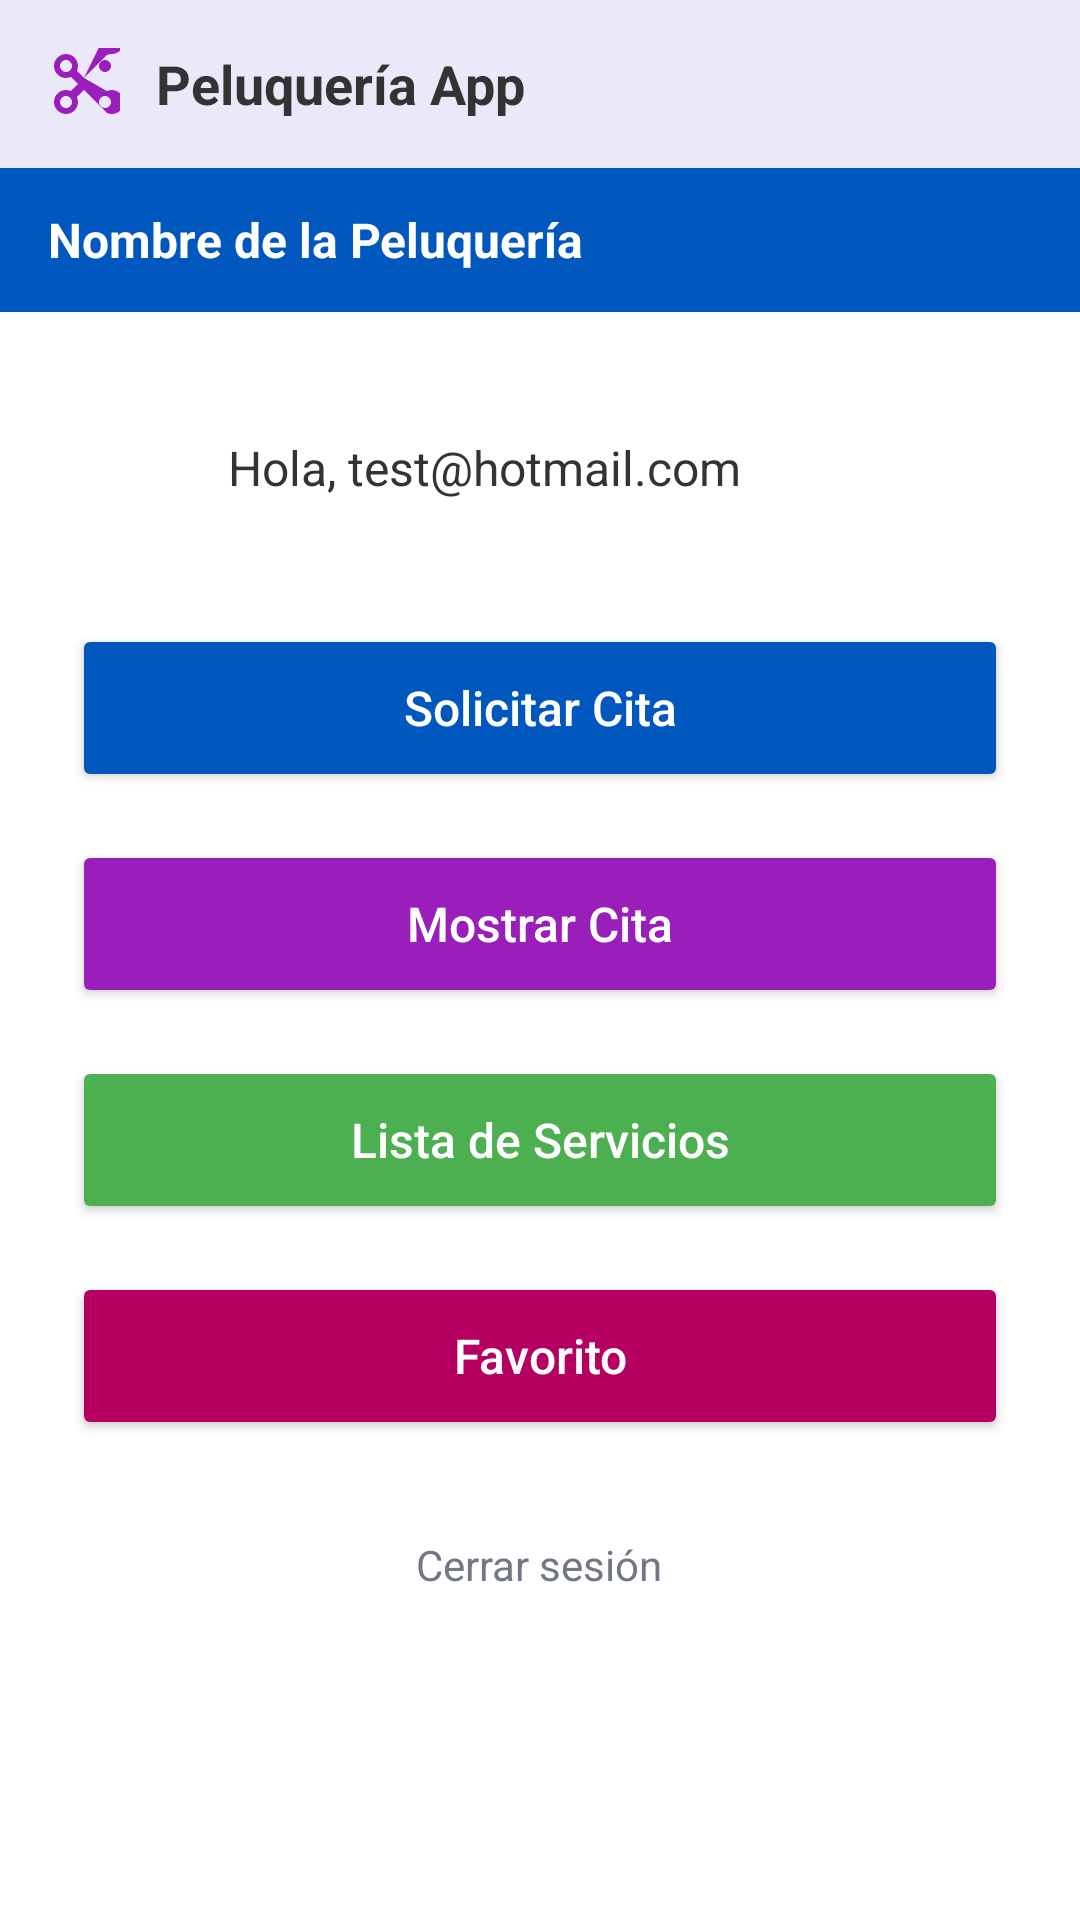

Locate icon controls on the screen. Image size 1080 x 1920, boxes as bbox=(x1, y1, x2, y2).
content cut: bbox=(54, 48, 120, 114)
